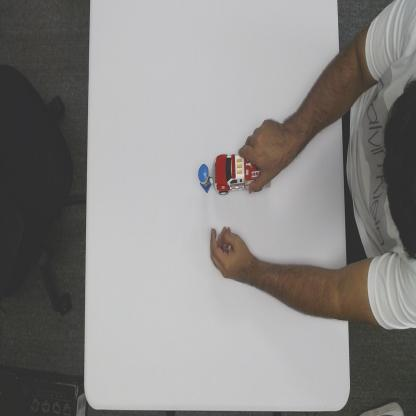Arm: (252, 254, 346, 326), (282, 52, 340, 168)
Firetruck: (212, 152, 270, 197)
Hand: (239, 119, 282, 194), (209, 224, 252, 286)
